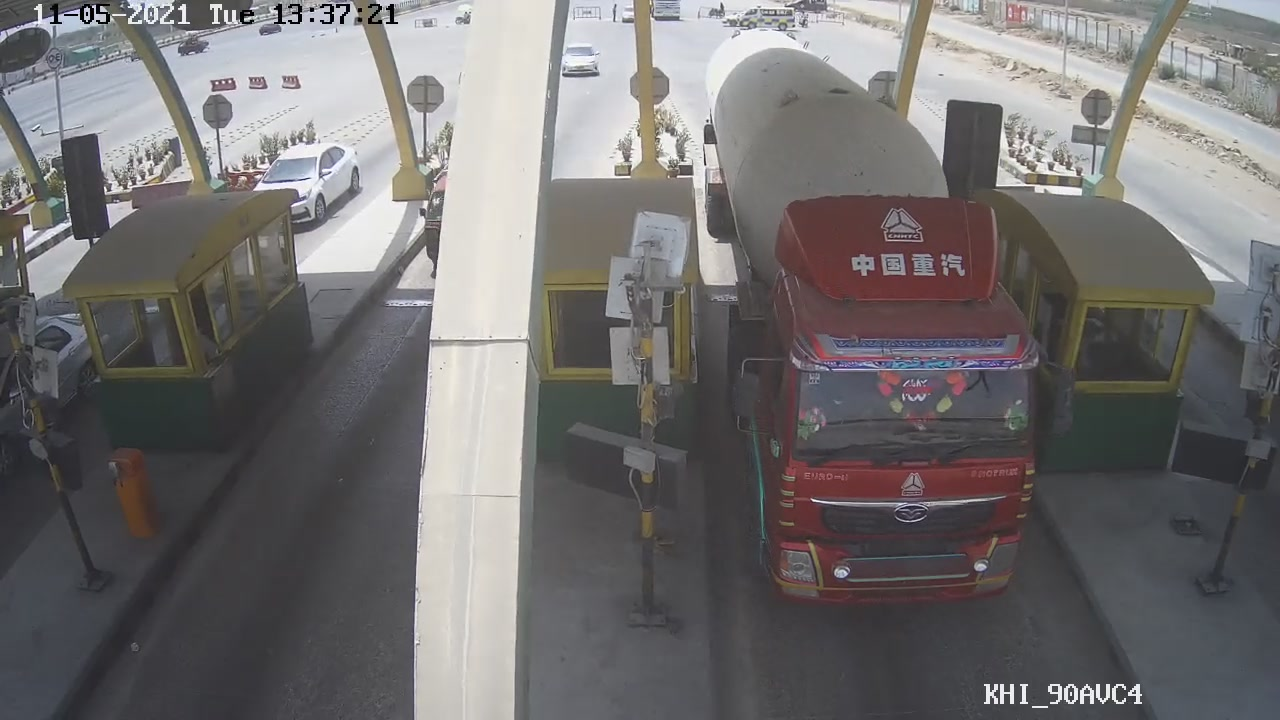F6: (697, 20, 1074, 604)
